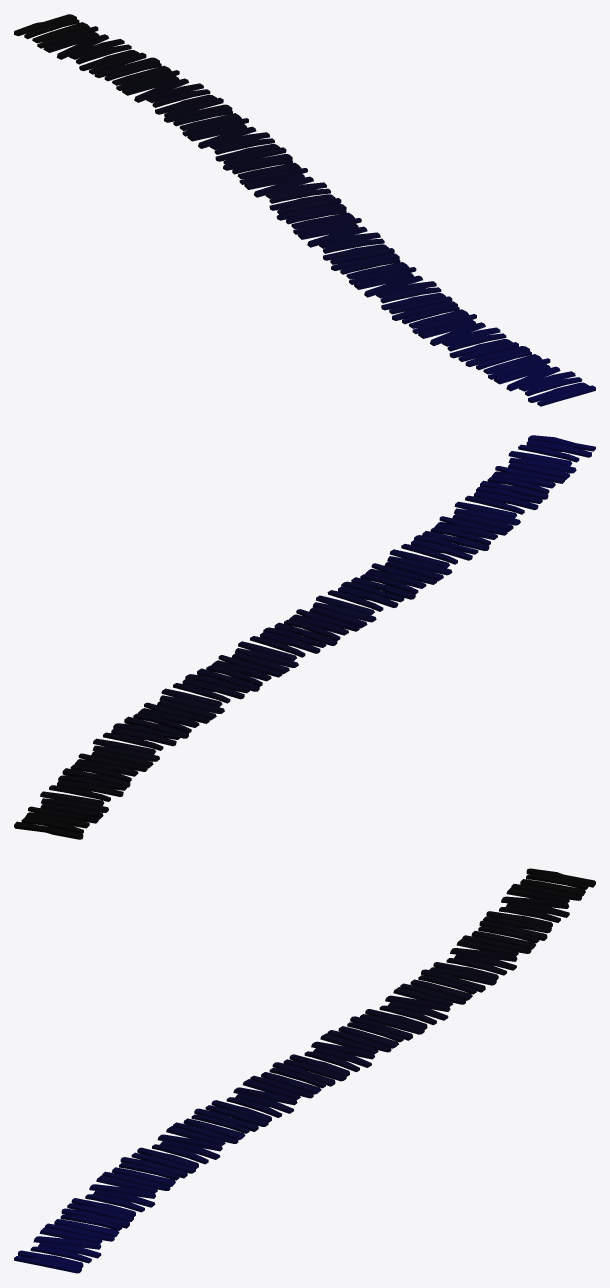
The model's file is ToonBridge_plane.fbx.
The picture shows the model from 3 angles, top to bottom: view 1: azimuth 30°, elevation 25°; view 2: azimuth 150°, elevation 25°; view 3: azimuth 330°, elevation 25°; orthographic projection. The views are drawn at different scales.
Visible parts, largest first — view 1: Output; view 2: Output; view 3: Output.
Part boxes in pixels (bbox=[...]): Output: bbox=[14, 14, 595, 406]; Output: bbox=[14, 435, 595, 839]; Output: bbox=[14, 868, 595, 1273].
Size of the model in its own units: 3.42 by 0.1814 by 31.62.
